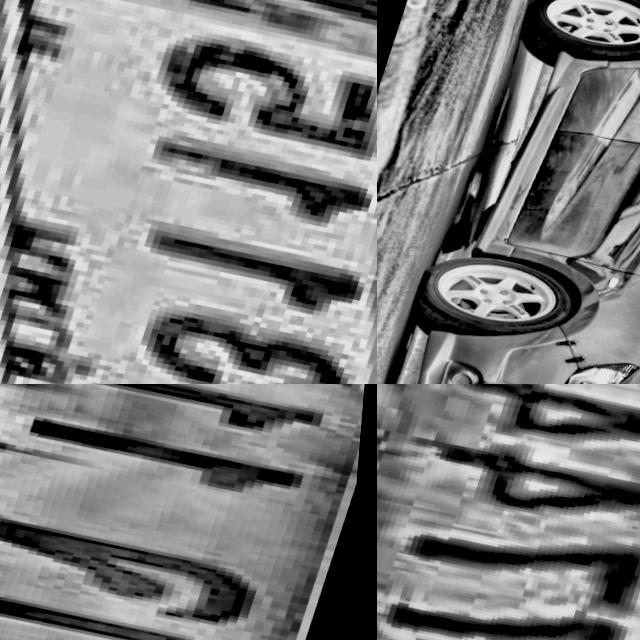license-plate: (0, 0, 377, 384), (0, 384, 377, 640), (377, 384, 640, 640)
